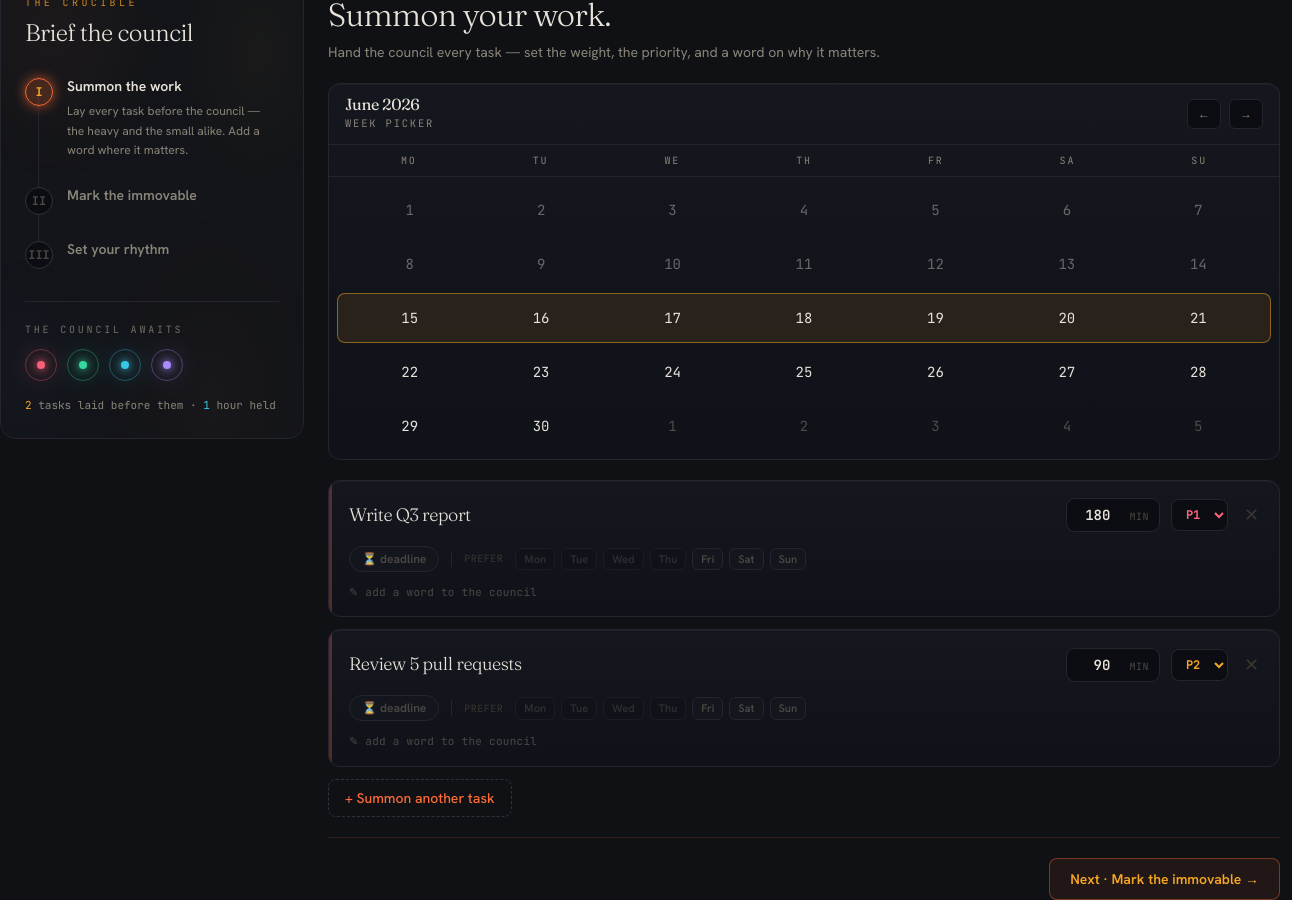
Test case: TaskForm › blocks advancing when a busy block ends before it starts
(page scrolled)
Click the button "Next · Mark the immovable →" at (1165, 879), box [1049,858,1280,899]
(page scrolled)
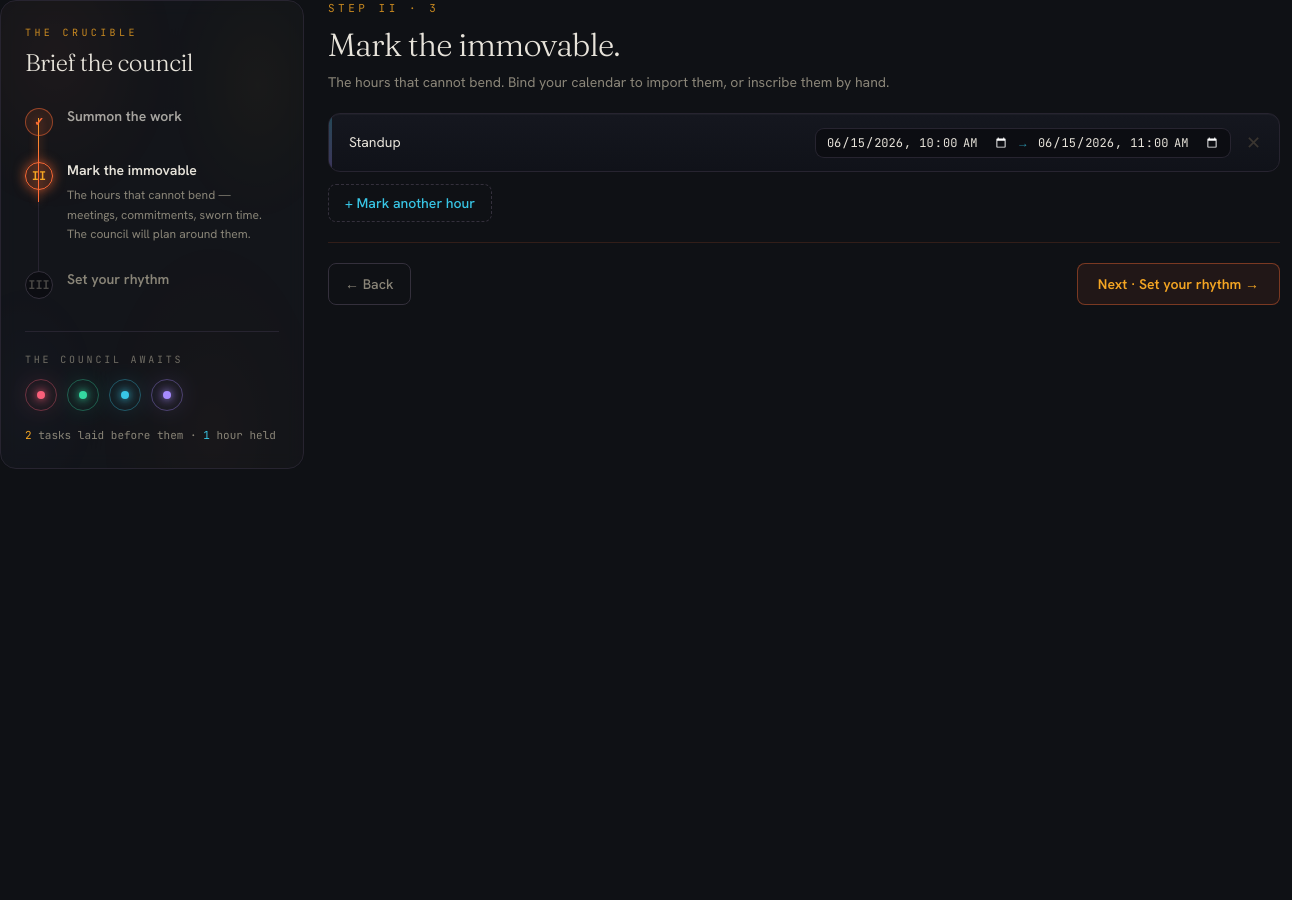
Replace the text in the field with test id "busy-end-input" with "2026-06-15T09:00" at (1128, 143), box [1037,135,1220,151]
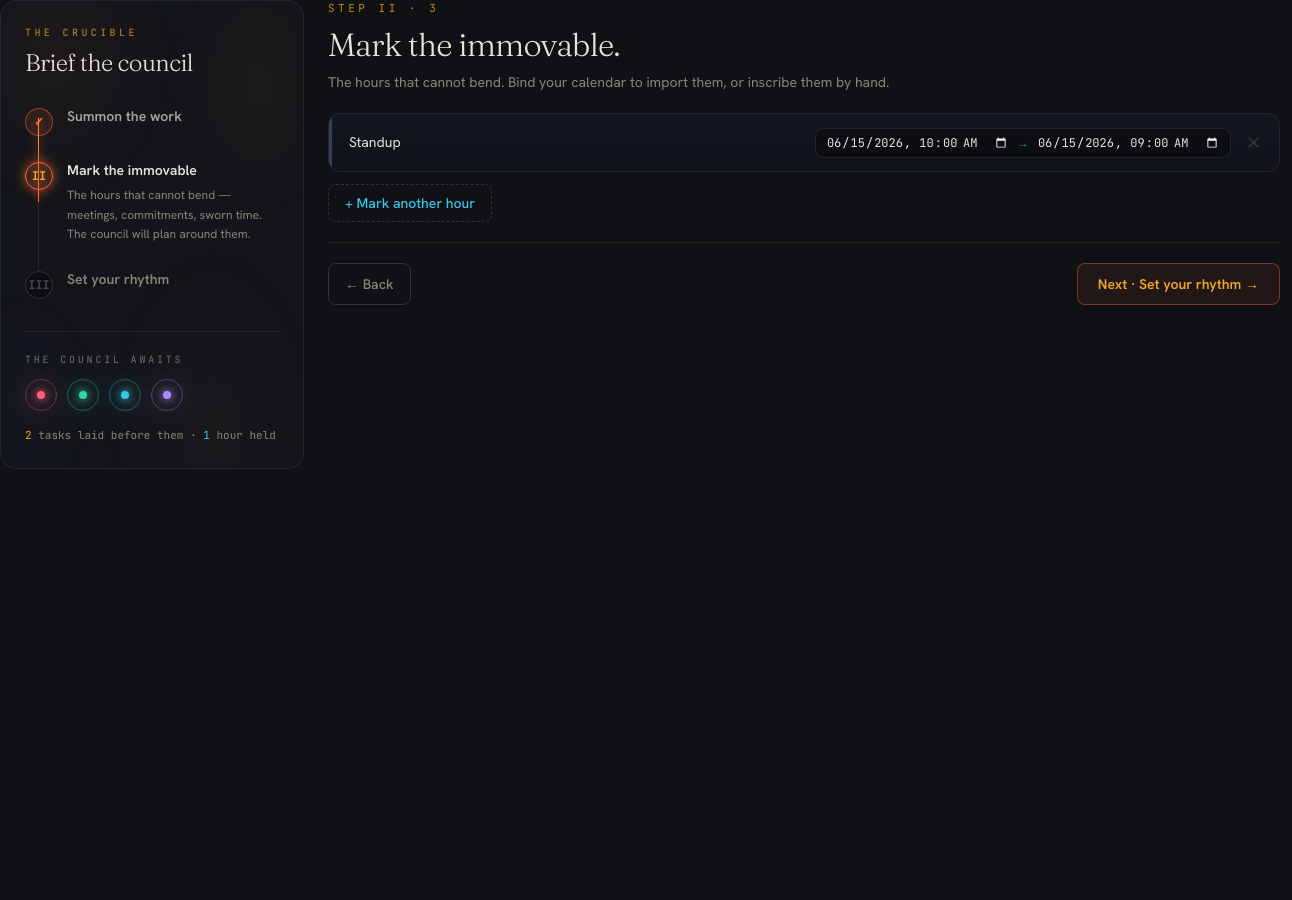
Click the button "Next · Set your rhythm →" at (1178, 284), box [1077,263,1280,305]
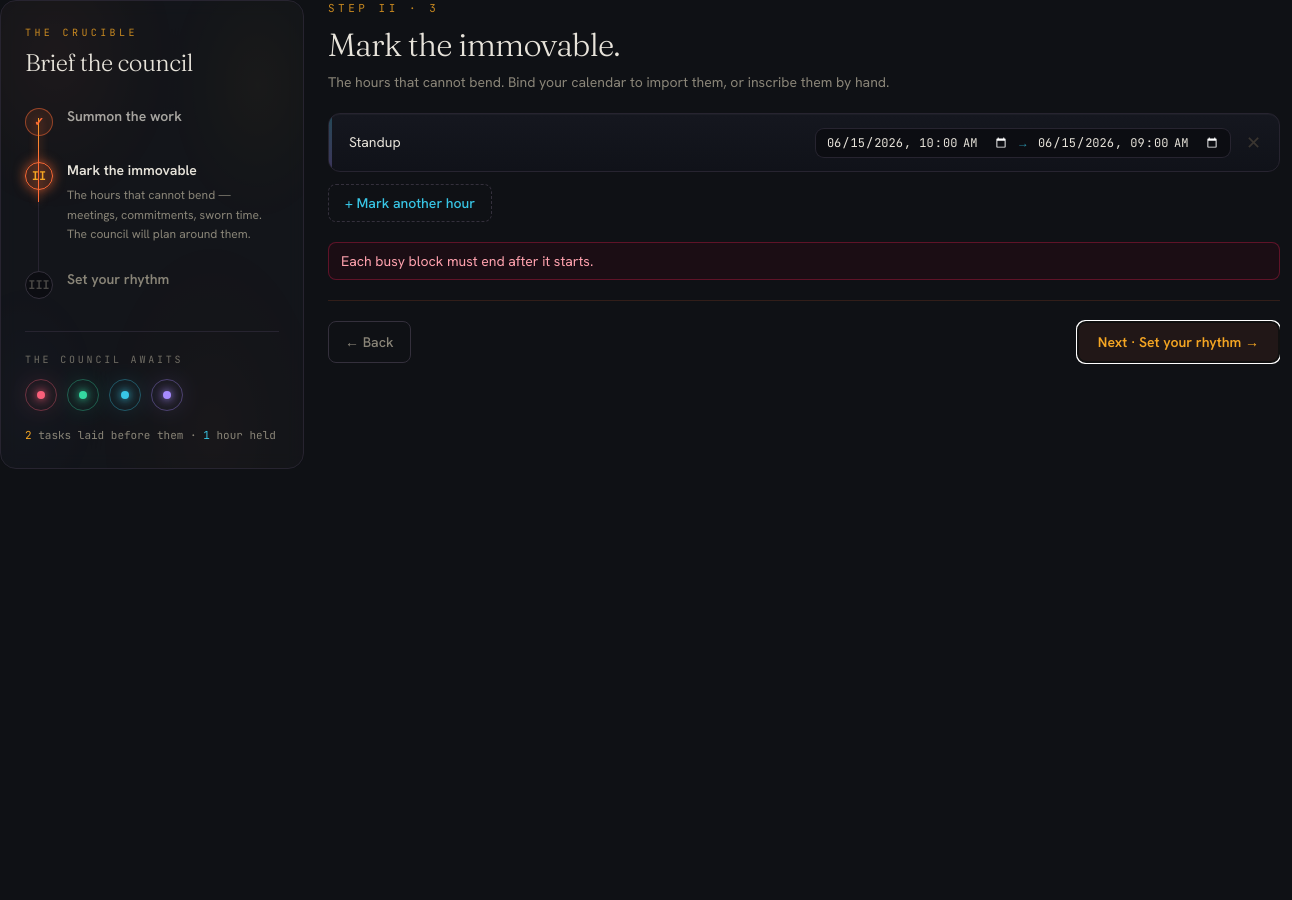
Now the text "Each busy block must end after it starts." is shown, box [328,242,1280,280]
